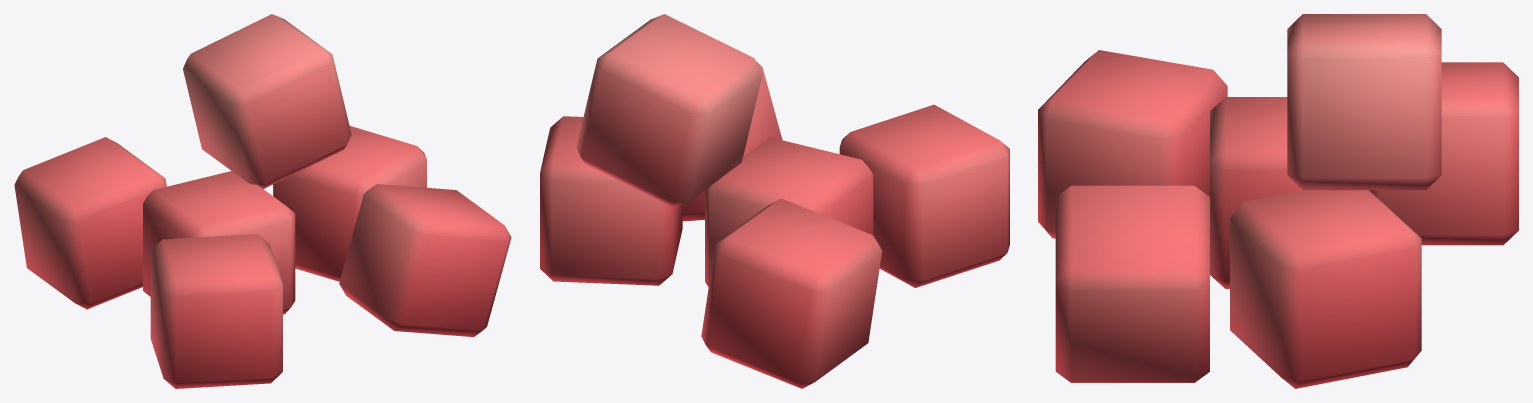
File: Raw steak cubes.glb
The picture shows the model from 3 angles, left to right: view 1: azimuth 30°, elevation 25°; view 2: azimuth 150°, elevation 25°; view 3: azimuth 270°, elevation 25°; orthographic projection. The views are drawn at different scales.
Visible parts, largest first — view 1: food_ingredient_steak_pieces; view 2: food_ingredient_steak_pieces; view 3: food_ingredient_steak_pieces.
Part boxes in pixels (x1,y1,x2,y2): food_ingredient_steak_pieces: (14, 14, 511, 388); food_ingredient_steak_pieces: (540, 14, 1009, 388); food_ingredient_steak_pieces: (1038, 14, 1518, 388).
Size of the model in its own units: 0.647 by 0.4348 by 0.6228.
1 material, 1 textured.
